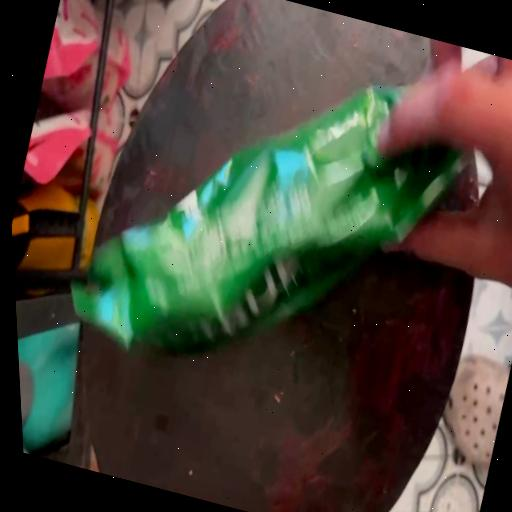cafe_xay: (72, 86, 468, 351)
